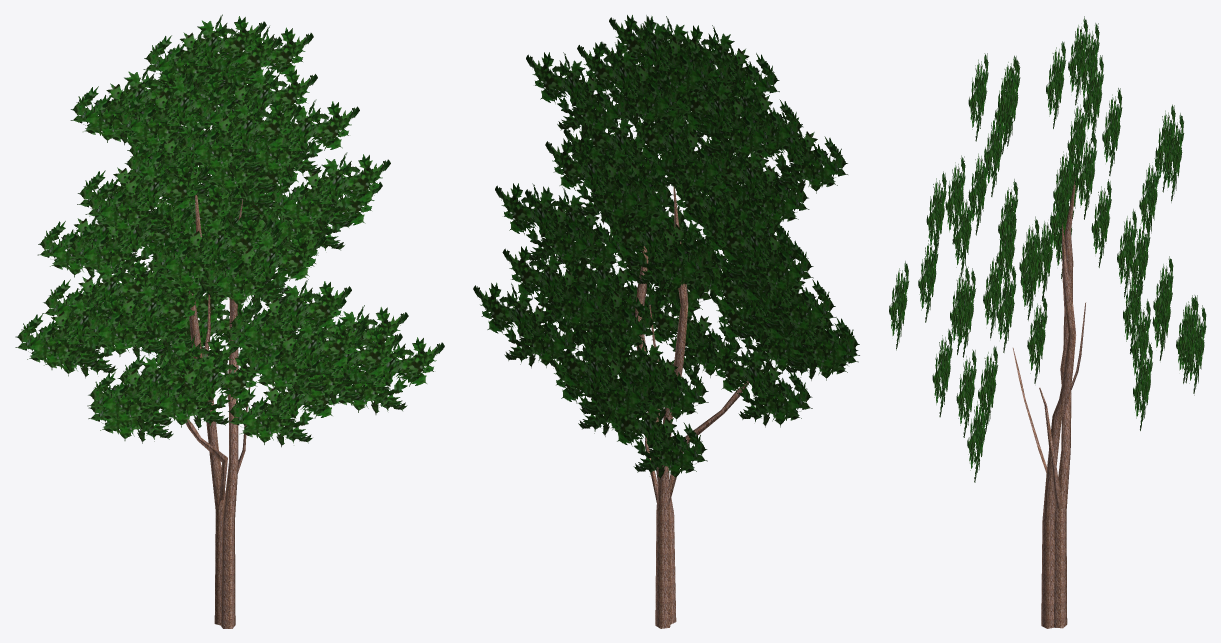
The picture shows the model from 3 angles, left to right: view 1: azimuth 30°, elevation 25°; view 2: azimuth 150°, elevation 25°; view 3: azimuth 270°, elevation 25°; orthographic projection. The views are drawn at different scales.
Parts seen in each view (by area): view 1: Component_2 (×39), Group_5 (×2), ske16; view 2: Component_2 (×41), Group_5 (×2), ske16; view 3: Component_2 (×44), Group_5 (×2), ske16.
Boxes of the visible parts, x1,y1,x2,y2 form: Component_2 (×39): [15, 14, 444, 447]; Group_5 (×2): [188, 173, 242, 628]; ske16: [186, 419, 227, 506]; Component_2 (×41): [473, 15, 859, 479]; Group_5 (×2): [635, 186, 688, 628]; ske16: [668, 381, 749, 506]; Component_2 (×44): [889, 16, 1206, 482]; Group_5 (×2): [1041, 173, 1076, 628]; ske16: [1039, 387, 1063, 511].
Size of the model in its own units: 139 by 102 by 212.
Materials: 3 (3 with a texture image).
